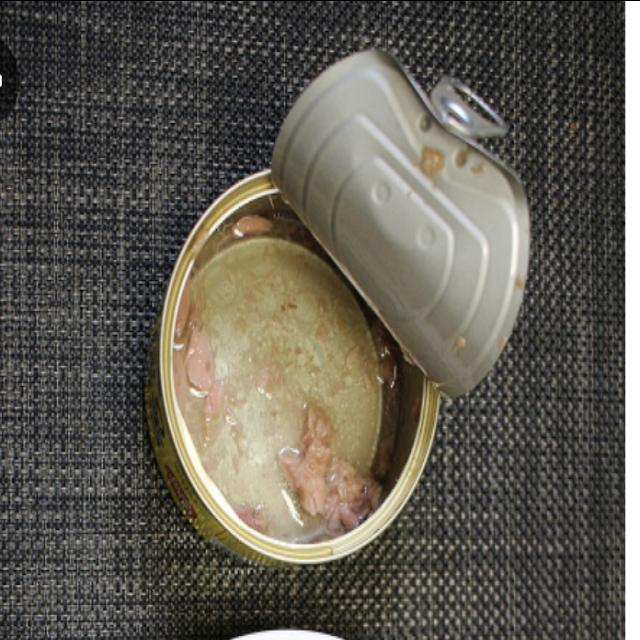can: (140, 34, 558, 596)
